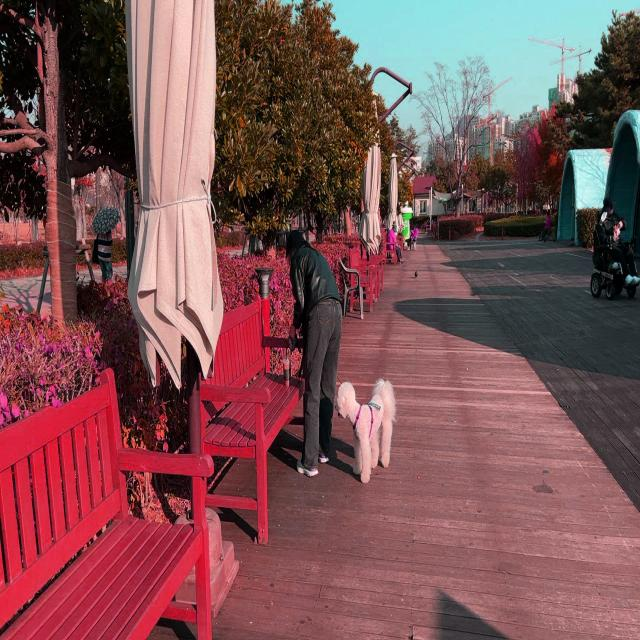Leashed_Dog: (326, 367, 396, 485)
